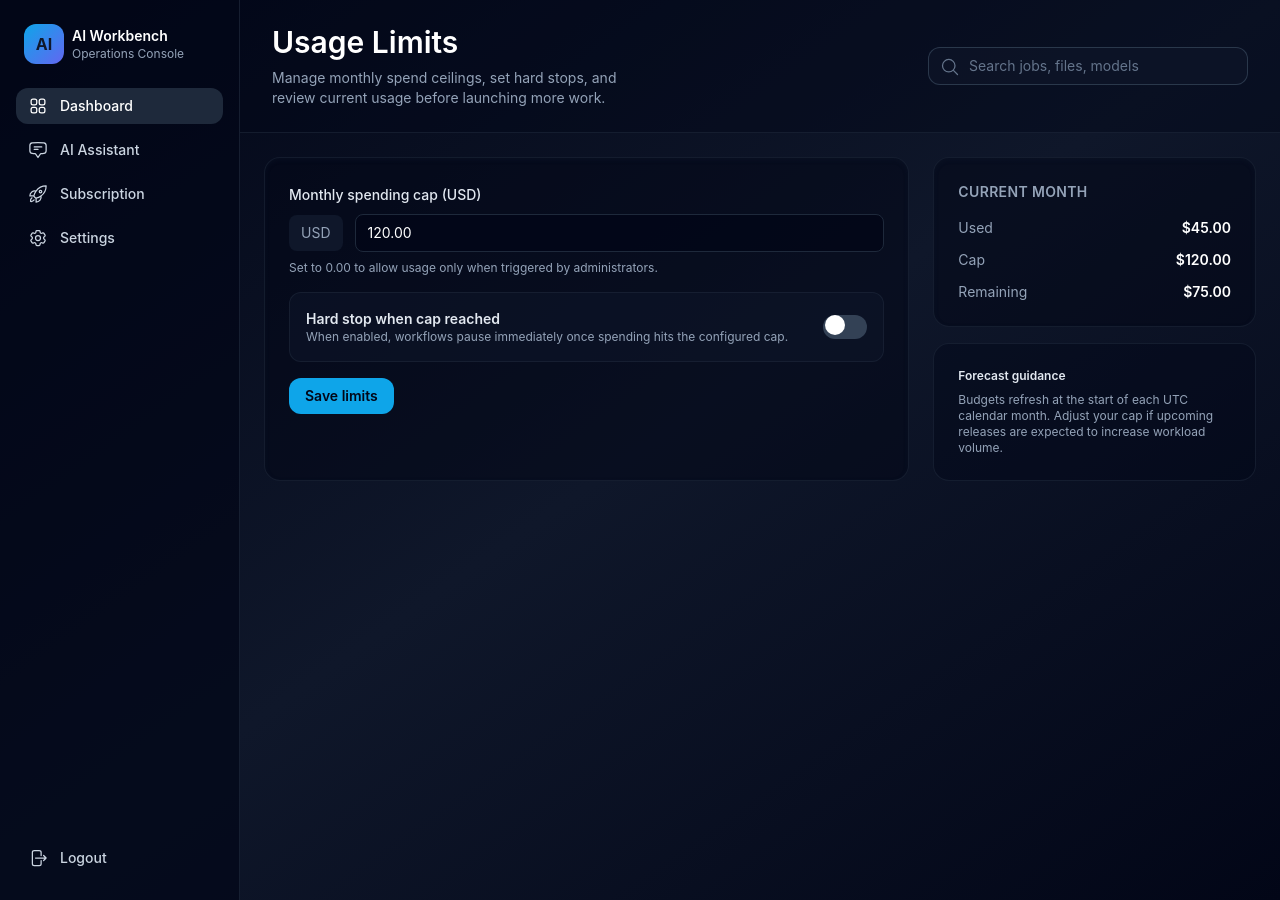
Test: renders limits and submits updates
Replace the text in the number field labelled "Monthly spending cap (USD)" with "200" at (619, 233), box top-left (354, 214), bottom-right (884, 252)
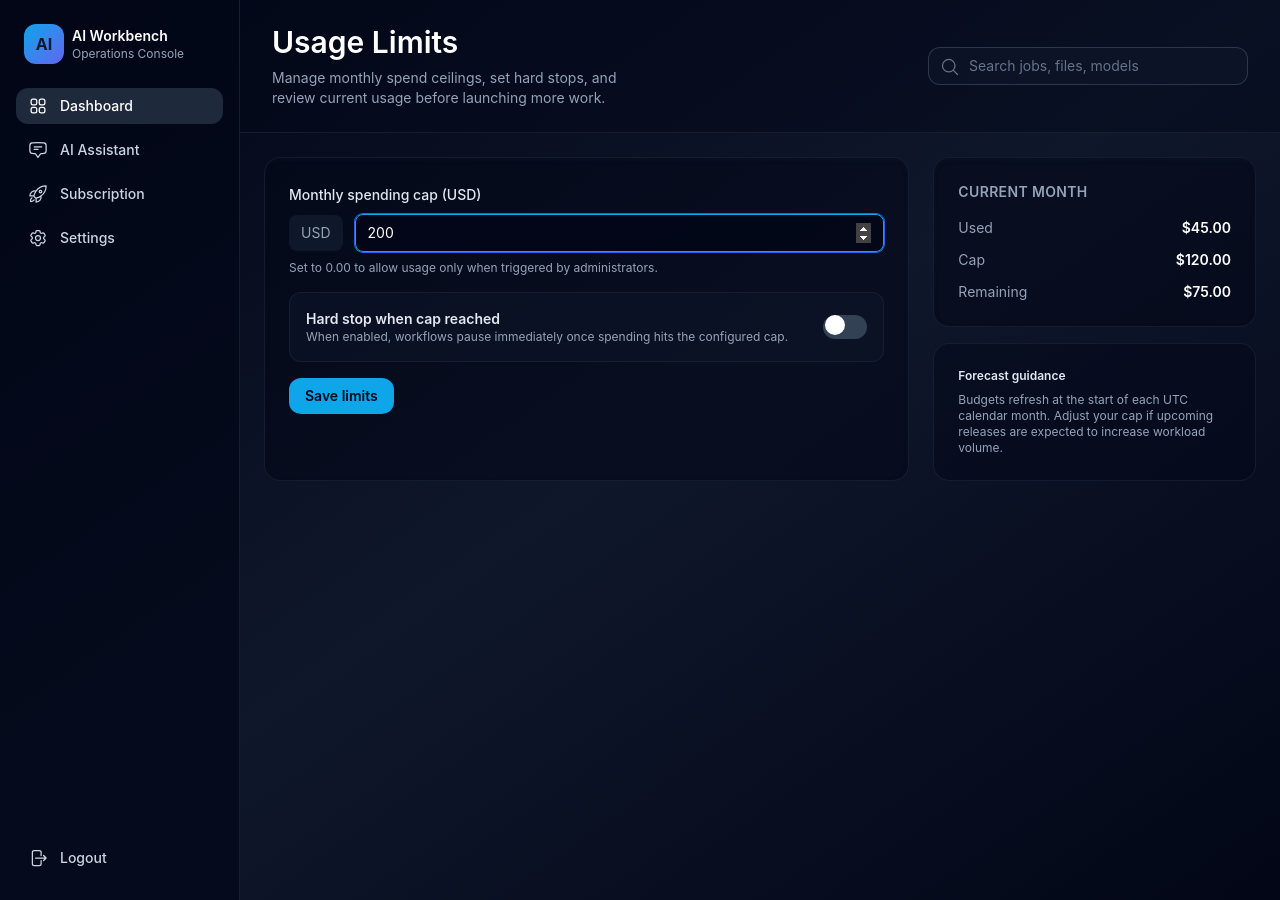
Click the checkbox at (845, 327), box top-left (823, 315), bottom-right (867, 339)
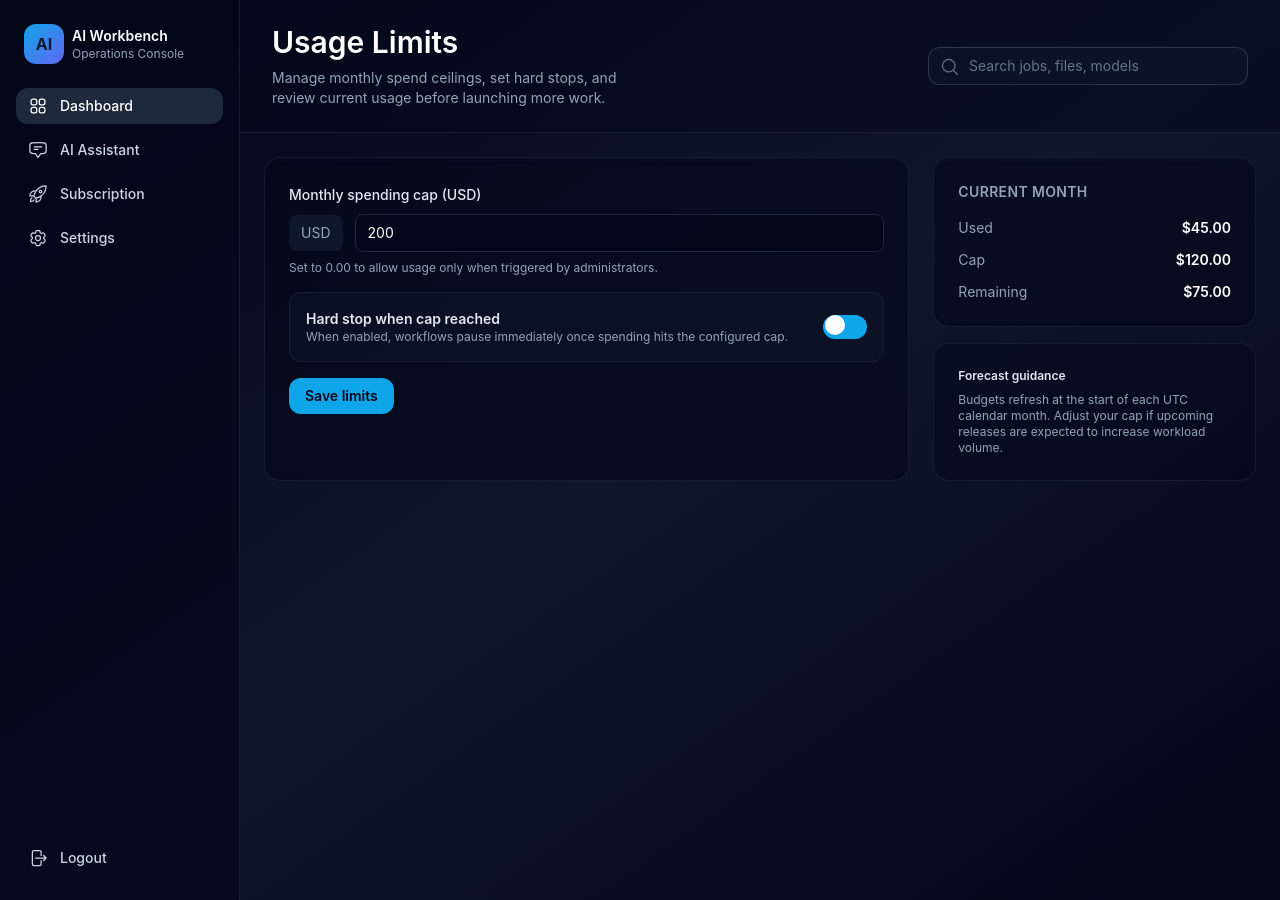
Click the button "Save limits" at (341, 396), box top-left (289, 378), bottom-right (394, 414)
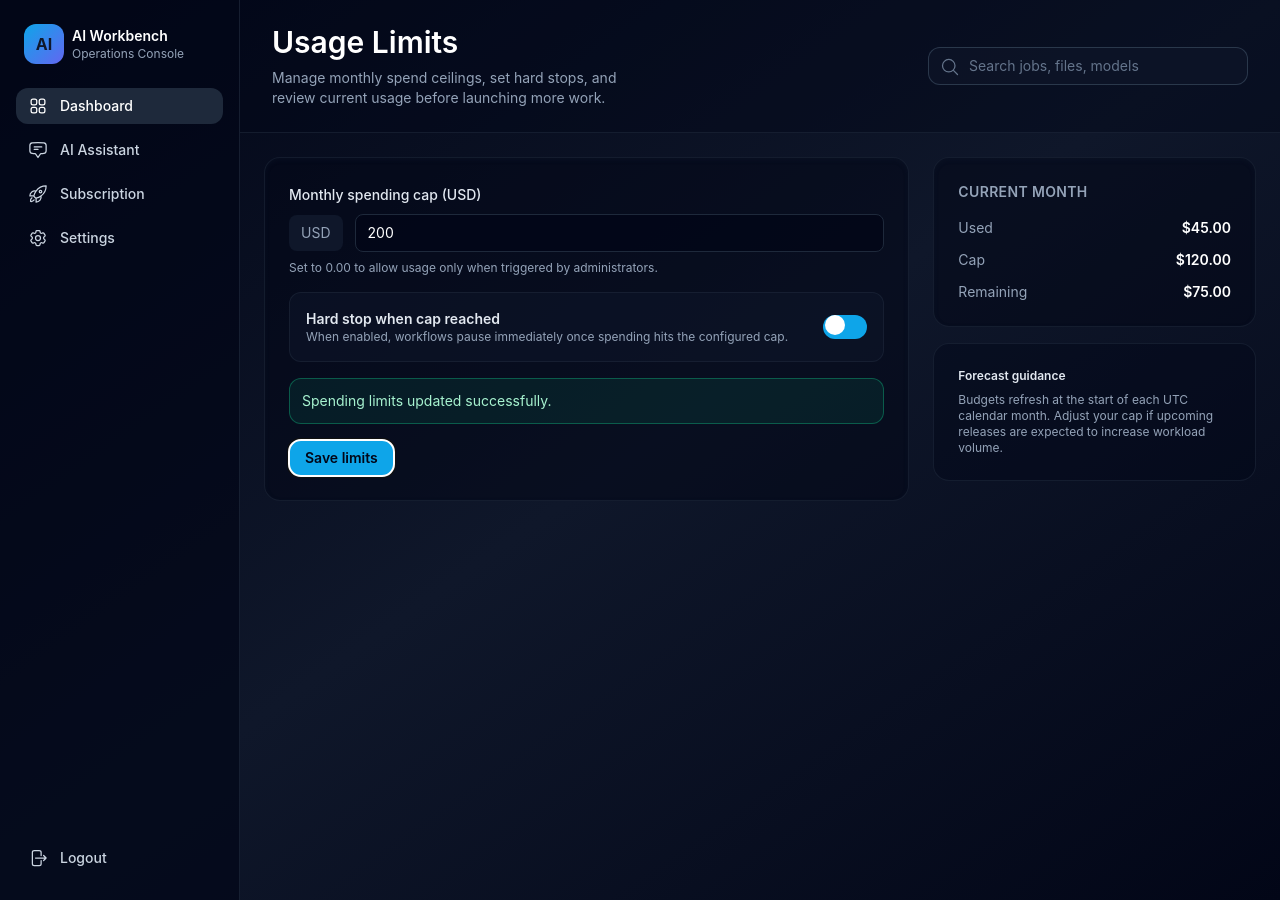
expect the text "Spending limits updated successfully." is shown: met, box top-left (289, 378), bottom-right (884, 424)
